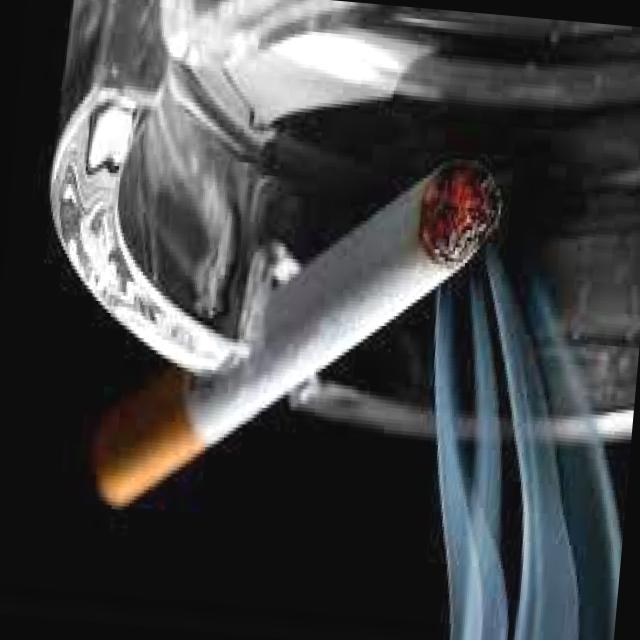cigarette: (83, 118, 510, 555)
